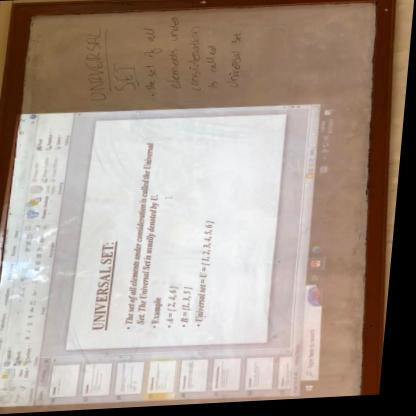Handwritten text: (75, 22, 113, 108), (161, 14, 187, 95), (182, 22, 208, 99), (137, 23, 164, 96), (222, 28, 248, 93), (202, 41, 224, 96), (109, 61, 138, 96)
